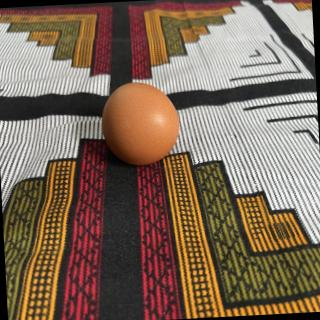Telur: (99, 78, 184, 172)
